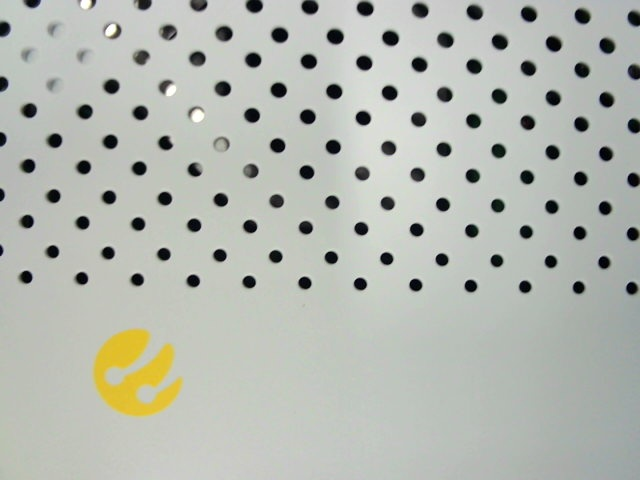AV_H3600Yellow: (75, 309, 198, 433)
